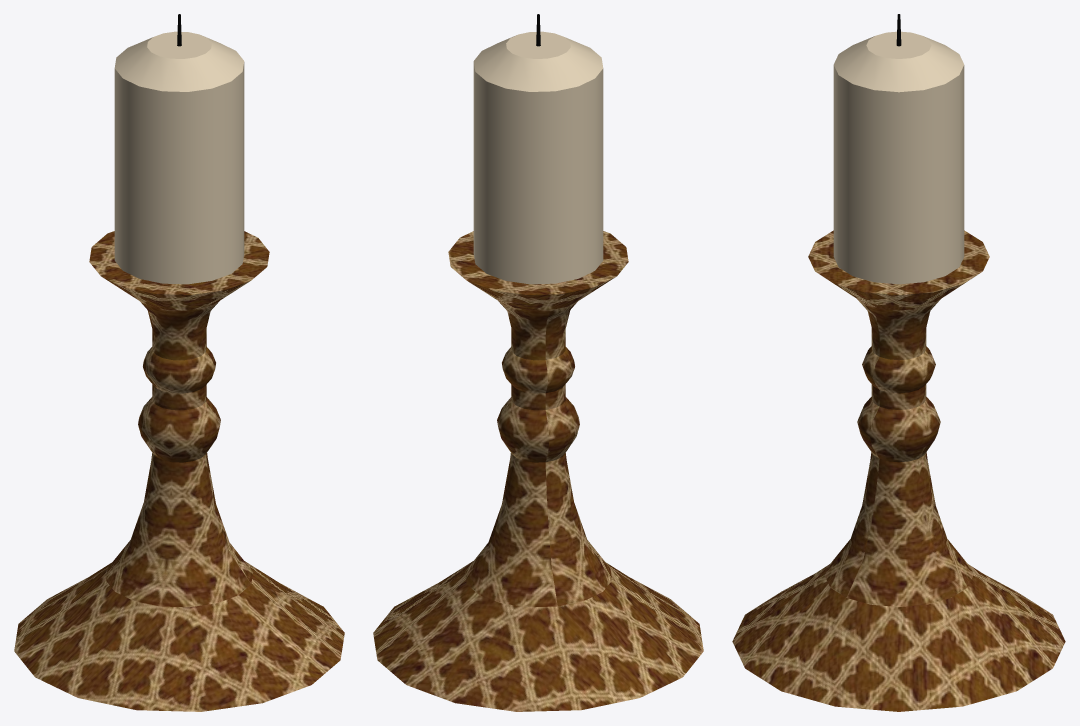
File: single_candle.glb
3 renders of one model, left to right at view 1: azimuth 30°, elevation 25°; view 2: azimuth 150°, elevation 25°; view 3: azimuth 270°, elevation 25°, orthographic.
Visible parts, largest first — view 1: pCylinder71; view 2: pCylinder71; view 3: pCylinder71.
Boxes of the visible parts, left/top/right/bottom form: pCylinder71: left=14, top=14, right=344, bottom=711; pCylinder71: left=373, top=14, right=703, bottom=711; pCylinder71: left=732, top=14, right=1065, bottom=711.
Size of the model in its own units: 0.0938 by 0.1948 by 0.0938.
1 material, 1 textured.
